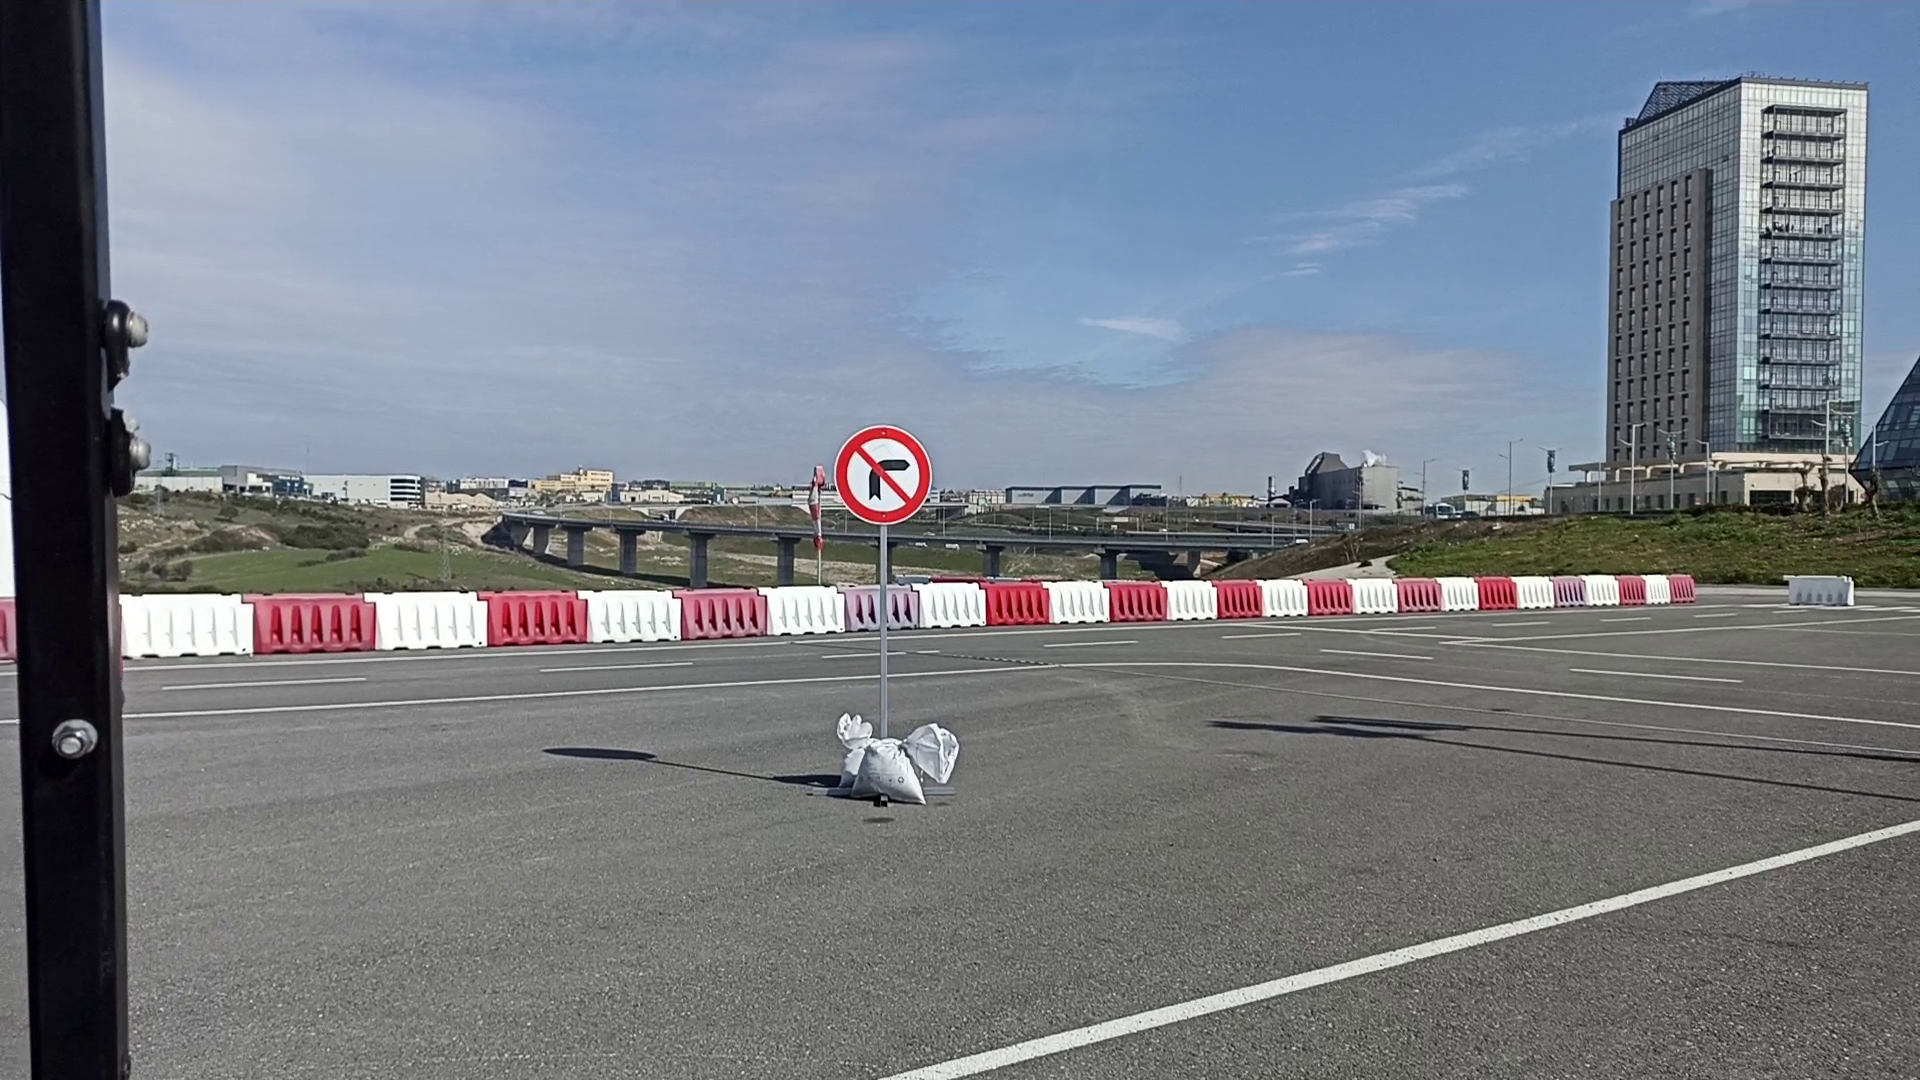noleftturn: (831, 421, 938, 530)
